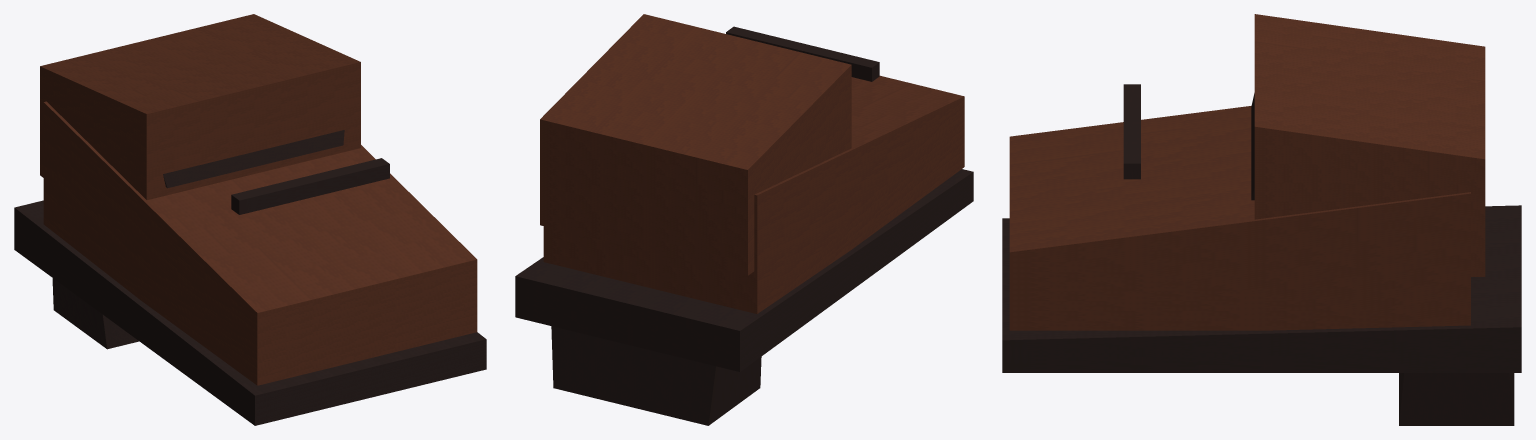
Rendered from dress_shoe.gltf.
The picture shows the model from 3 angles, left to right: view 1: azimuth 30°, elevation 25°; view 2: azimuth 150°, elevation 25°; view 3: azimuth 270°, elevation 25°; orthographic projection. The views are drawn at different scales.
Parts seen in each view (by area): view 1: Oxford Dress Shoe; view 2: Oxford Dress Shoe; view 3: Oxford Dress Shoe.
Part boxes in pixels (x1,y1,x2,y2): Oxford Dress Shoe: (14,14,486,425); Oxford Dress Shoe: (515,14,973,425); Oxford Dress Shoe: (1002,14,1521,425).
Bounding box in the file's own units: 0.2 × 0.24 × 0.36.
Materials: 2 (2 with a texture image).
